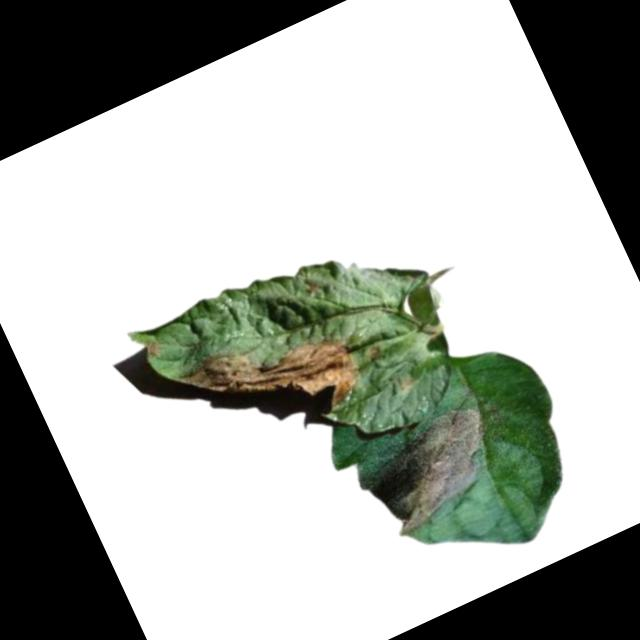Late_blight: (176, 299, 371, 462), (346, 395, 516, 545), (141, 335, 166, 362)
